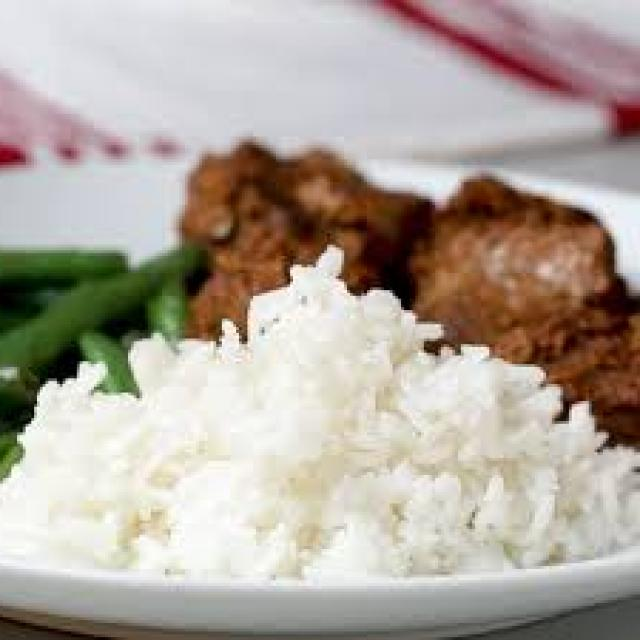White Rice: (14, 412, 634, 598)
